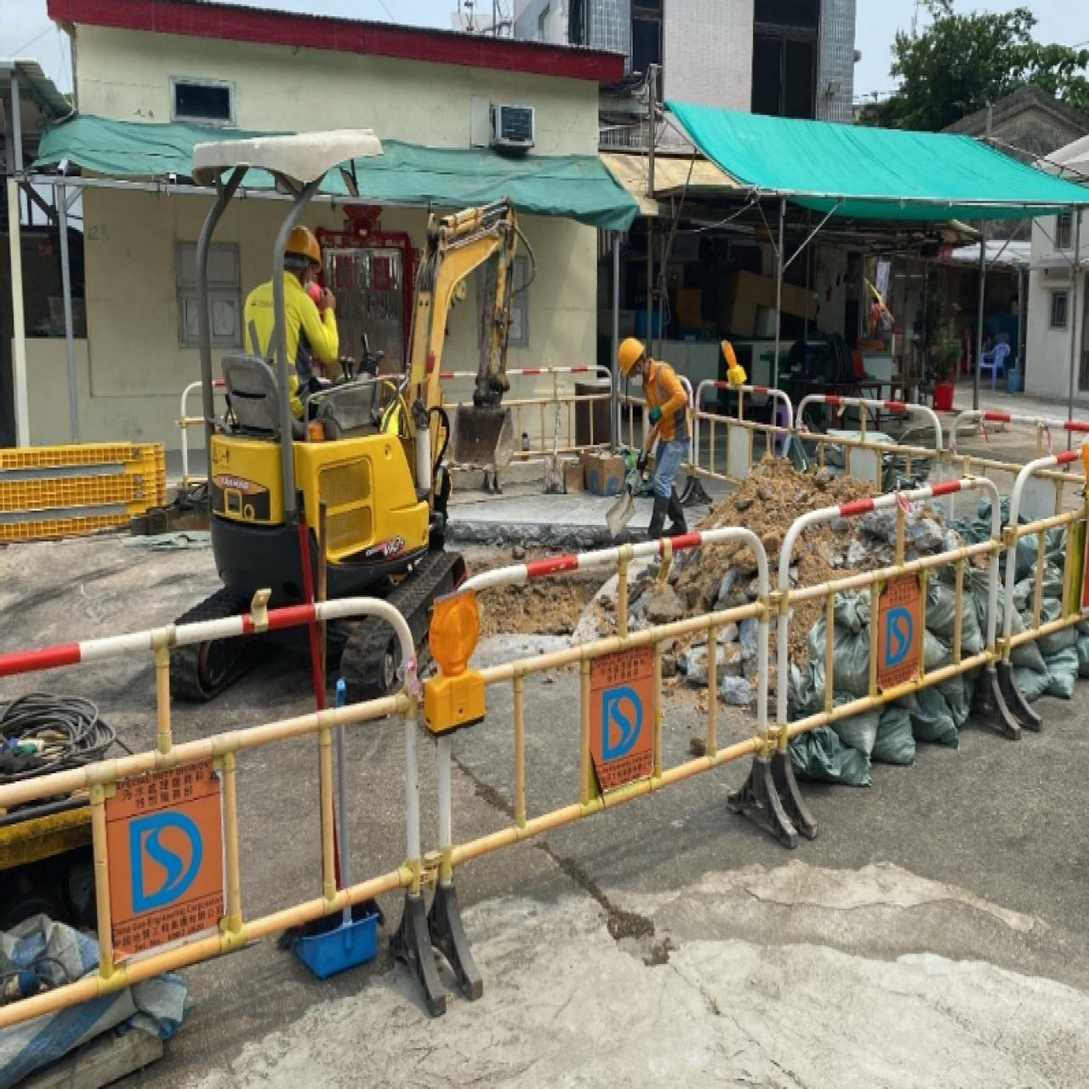NO_Safety_Vest: (244, 270, 329, 415), (644, 364, 693, 450)
Person: (234, 196, 347, 433), (612, 330, 702, 539)
